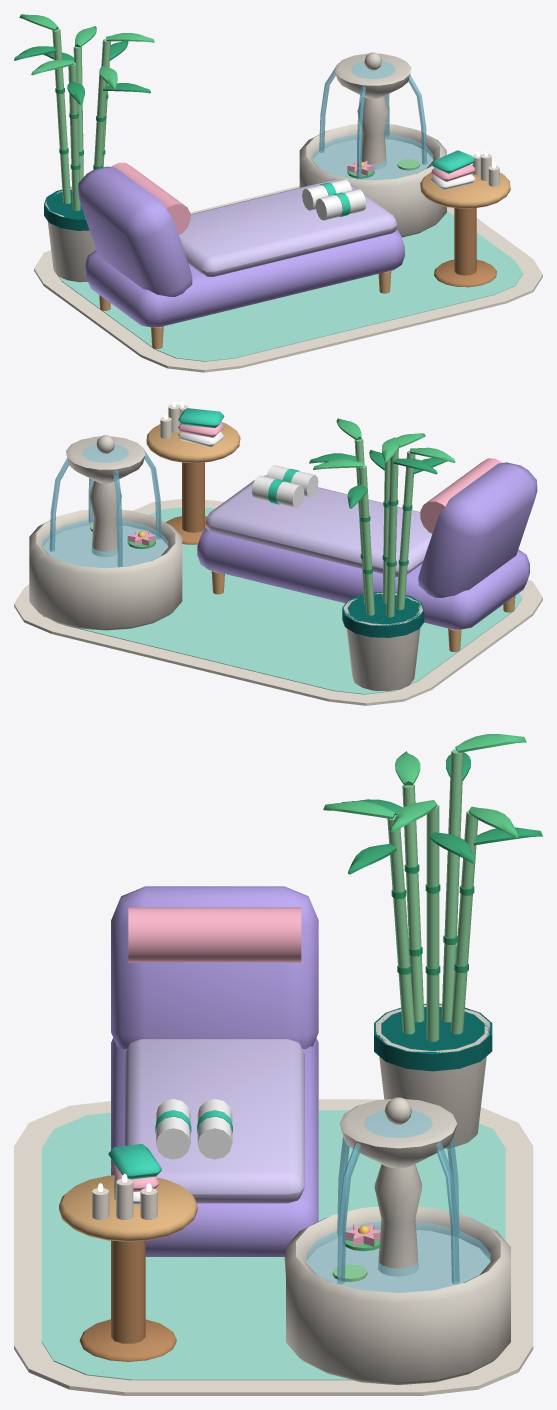
The model's file is spa_lounge.glb.
3 renders of one model, top to bottom at view 1: azimuth 30°, elevation 25°; view 2: azimuth 150°, elevation 25°; view 3: azimuth 270°, elevation 25°, orthographic. The views are drawn at different scales.
Parts seen in each view (by area): view 1: SpaLounge; view 2: SpaLounge; view 3: SpaLounge.
Boxes of the visible parts, <box> form: SpaLounge: <box>14,14,542,372</box>; SpaLounge: <box>14,401,542,705</box>; SpaLounge: <box>14,734,542,1395</box>.
Bounding box in the file's own units: 2.09 × 1.21 × 1.53.
